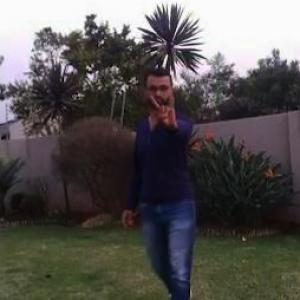takeoff-hand: (148, 81, 191, 134)
